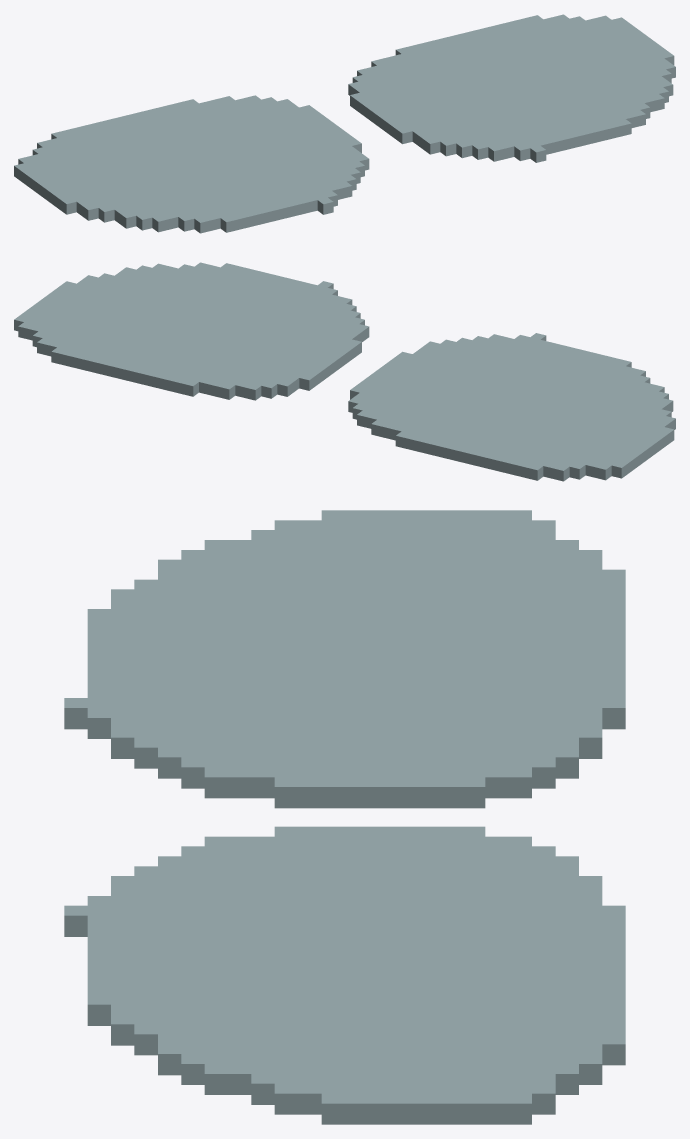
File: tinted_lenses.glb
3 views of the same model, one above another, from view 1: azimuth 30°, elevation 25°; view 2: azimuth 150°, elevation 25°; view 3: azimuth 270°, elevation 25° (orthographic). The views are drawn at different scales.
Visible parts, largest first — view 1: tinted_lenses:compound; view 2: tinted_lenses:compound; view 3: tinted_lenses:compound.
Boxes of the visible parts, box(x1,y1,x2,y2) form: tinted_lenses:compound: box(14, 14, 675, 233); tinted_lenses:compound: box(14, 262, 675, 481); tinted_lenses:compound: box(64, 510, 625, 1124).
Bounding box in the file's own units: 0.12 × 0.002 × 0.048.
